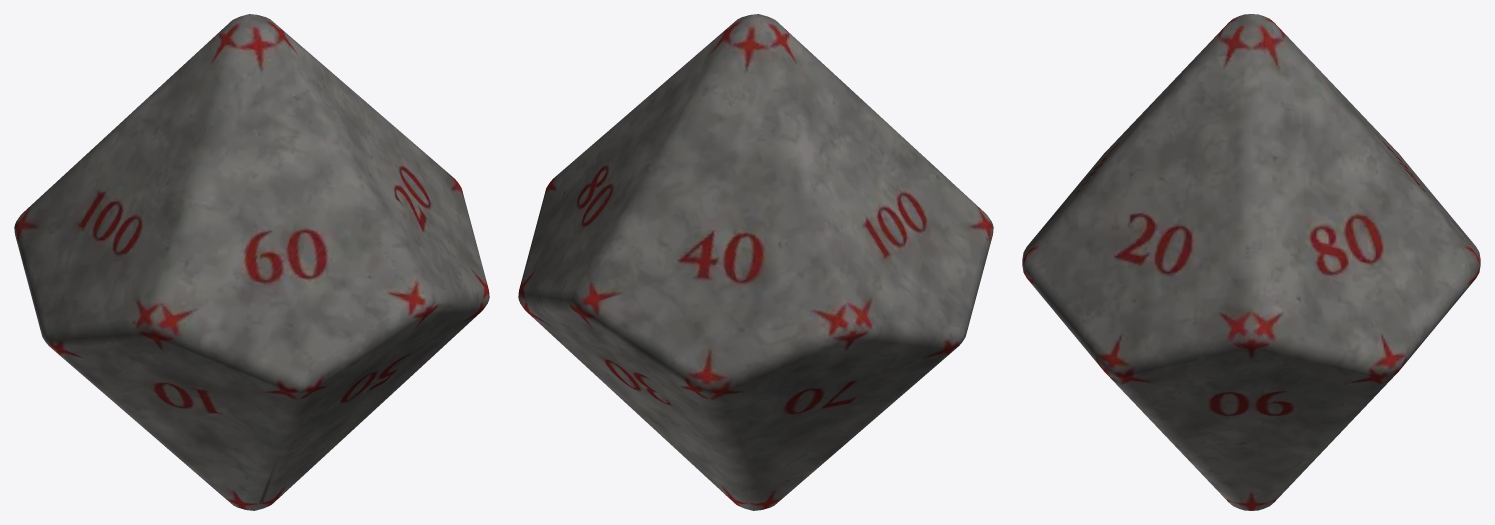
The model's file is dunmer-d100.glb.
The picture shows the model from 3 angles, left to right: view 1: azimuth 30°, elevation 25°; view 2: azimuth 150°, elevation 25°; view 3: azimuth 270°, elevation 25°; orthographic projection.
Visible parts, largest first — view 1: dunmer_d100; view 2: dunmer_d100; view 3: dunmer_d100.
Part boxes in pixels (x1,y1,x2,y2): dunmer_d100: (14,14,489,510); dunmer_d100: (518,14,993,510); dunmer_d100: (1022,14,1480,510).
Size of the model in its own units: 1.66 by 1.91 by 1.59.
Materials: 1 (1 with a texture image).
